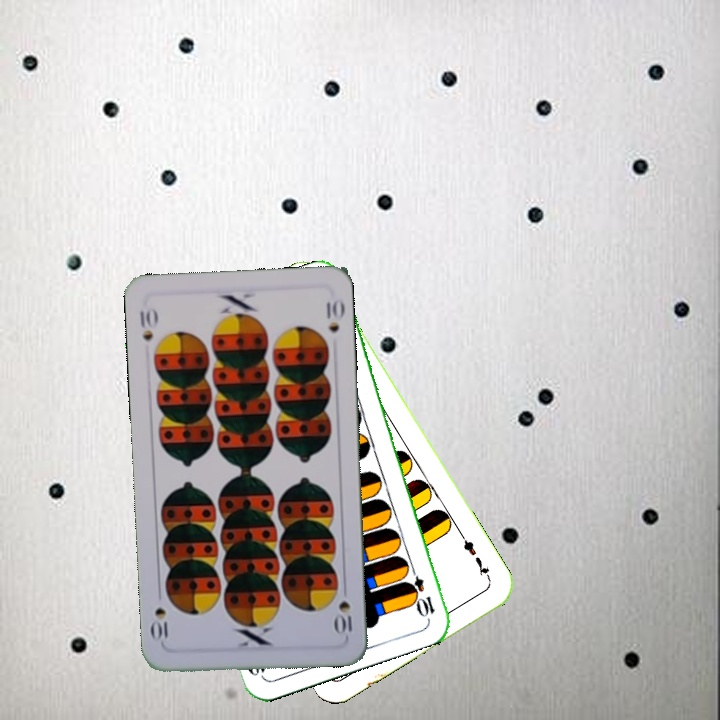E10: (406, 561, 438, 618)
E7: (456, 530, 493, 583)
S10: (332, 580, 354, 637), (135, 305, 160, 344)
